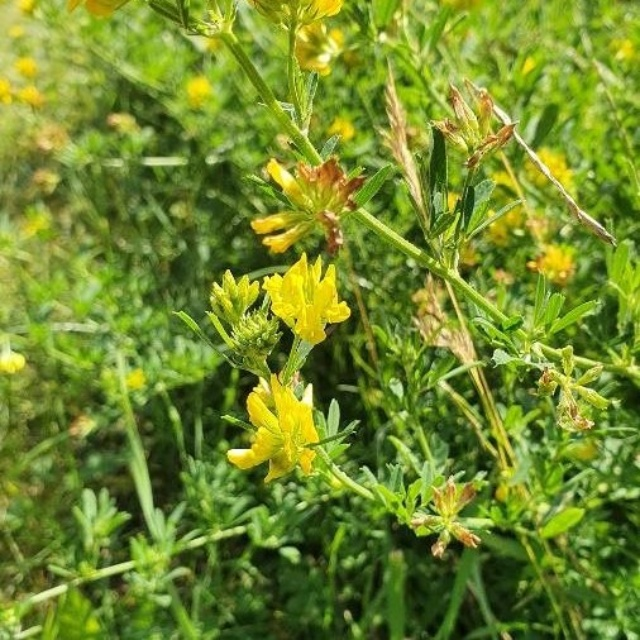obstacle: (196, 123, 602, 532)
